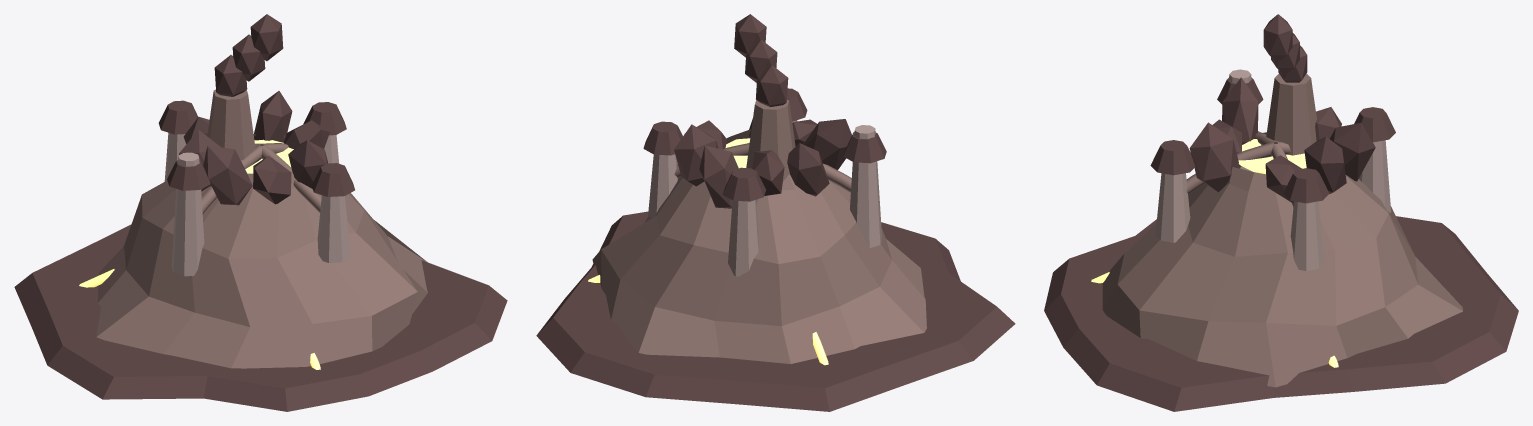
The model's file is molten-wastes-lod1.glb.
3 views of the same model, side by side, from view 1: azimuth 30°, elevation 25°; view 2: azimuth 150°, elevation 25°; view 3: azimuth 270°, elevation 25° (orthographic). The views are drawn at different scales.
Visible parts, largest first — view 1: STONE_ASYMMETRIC_CALDERA, DARK_TERRAIN_SOCKET, STONE_FOUNDRY_TOWER_2, STONE_CALDERA_KEEP, DARK_JAGGED_CRATER_RIM_5, STONE_FOUNDRY_TOWER_3, DARK_JAGGED_CRATER_RIM_1, DARK_JAGGED_CRATER_RIM_6, DARK_JAGGED_CRATER_RIM_7, DARK_FOUNDRY_CROWN_3, FX_SMOKE_2, DARK_FOUNDRY_CROWN_1 (+9 smaller); view 2: STONE_ASYMMETRIC_CALDERA, DARK_TERRAIN_SOCKET, STONE_FOUNDRY_TOWER_2, STONE_CALDERA_KEEP, STONE_FOUNDRY_TOWER_1, DARK_JAGGED_CRATER_RIM_2, DARK_JAGGED_CRATER_RIM_5, DARK_JAGGED_CRATER_RIM_4, DARK_JAGGED_CRATER_RIM_1, STONE_FOUNDRY_TOWER_0, DARK_FOUNDRY_CROWN_1, FX_SMOKE_0 (+6 smaller); view 3: STONE_ASYMMETRIC_CALDERA, DARK_TERRAIN_SOCKET, STONE_CALDERA_KEEP, DARK_JAGGED_CRATER_RIM_7, STONE_FOUNDRY_TOWER_3, STONE_FOUNDRY_TOWER_0, DARK_JAGGED_CRATER_RIM_5, DARK_JAGGED_CRATER_RIM_2, DARK_JAGGED_CRATER_RIM_1, STONE_FOUNDRY_TOWER_1, DARK_FOUNDRY_CROWN_0, DARK_FOUNDRY_CROWN_3 (+8 smaller).
Boxes of the visible parts, x1,y1,x2,y2 form: STONE_ASYMMETRIC_CALDERA: (96, 134, 427, 368); DARK_TERRAIN_SOCKET: (14, 224, 507, 411); STONE_FOUNDRY_TOWER_2: (171, 152, 204, 276); STONE_CALDERA_KEEP: (207, 89, 255, 160); DARK_JAGGED_CRATER_RIM_5: (203, 145, 252, 205); STONE_FOUNDRY_TOWER_3: (317, 195, 350, 262); DARK_JAGGED_CRATER_RIM_1: (254, 91, 292, 142); DARK_JAGGED_CRATER_RIM_6: (253, 156, 291, 204); DARK_JAGGED_CRATER_RIM_7: (288, 140, 328, 188); DARK_FOUNDRY_CROWN_3: (311, 163, 354, 196); FX_SMOKE_2: (250, 14, 283, 61); DARK_FOUNDRY_CROWN_1: (158, 100, 197, 134); STONE_ASYMMETRIC_CALDERA: (592, 129, 926, 363); DARK_TERRAIN_SOCKET: (536, 211, 1015, 411); STONE_FOUNDRY_TOWER_2: (850, 125, 881, 247); STONE_CALDERA_KEEP: (746, 99, 795, 181); STONE_FOUNDRY_TOWER_1: (728, 199, 759, 276); DARK_JAGGED_CRATER_RIM_2: (699, 145, 738, 208); DARK_JAGGED_CRATER_RIM_5: (803, 119, 851, 169); DARK_JAGGED_CRATER_RIM_4: (787, 143, 829, 196); DARK_JAGGED_CRATER_RIM_1: (674, 124, 718, 186); STONE_FOUNDRY_TOWER_0: (648, 154, 678, 217); DARK_FOUNDRY_CROWN_1: (722, 167, 765, 201); FX_SMOKE_0: (756, 65, 788, 106); STONE_ASYMMETRIC_CALDERA: (1102, 132, 1462, 387); DARK_TERRAIN_SOCKET: (1044, 216, 1518, 411); STONE_CALDERA_KEEP: (1266, 73, 1316, 155); DARK_JAGGED_CRATER_RIM_7: (1189, 122, 1240, 191); STONE_FOUNDRY_TOWER_3: (1155, 173, 1190, 242); STONE_FOUNDRY_TOWER_0: (1290, 201, 1323, 270); DARK_JAGGED_CRATER_RIM_5: (1222, 77, 1258, 167); DARK_JAGGED_CRATER_RIM_2: (1330, 123, 1375, 181); DARK_JAGGED_CRATER_RIM_1: (1304, 137, 1346, 194); STONE_FOUNDRY_TOWER_1: (1358, 140, 1391, 212); DARK_FOUNDRY_CROWN_0: (1283, 168, 1329, 203); DARK_FOUNDRY_CROWN_3: (1150, 140, 1195, 175).
Size of the model in its own units: 2 by 1.37 by 1.95.
